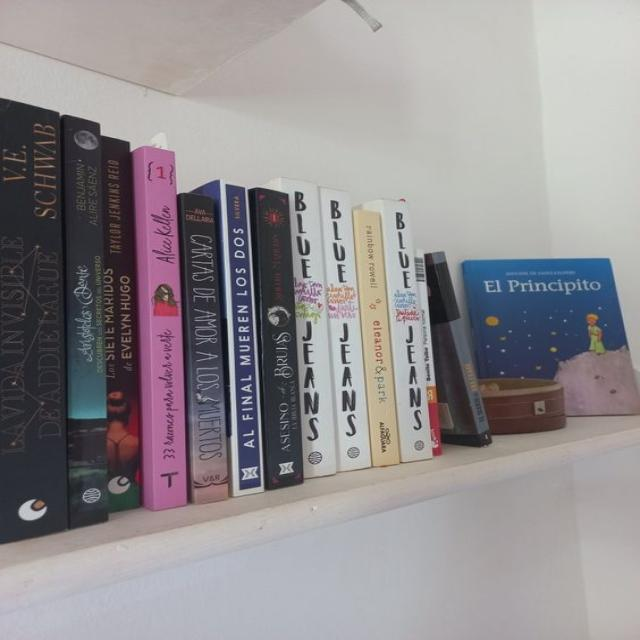book: (0, 98, 68, 545), (66, 115, 109, 531), (319, 187, 374, 472), (286, 179, 336, 478), (103, 135, 142, 511), (145, 145, 185, 511), (220, 180, 264, 496), (184, 192, 228, 505), (381, 198, 433, 462), (258, 187, 302, 490), (430, 252, 493, 448), (354, 210, 399, 467), (413, 250, 442, 454)
